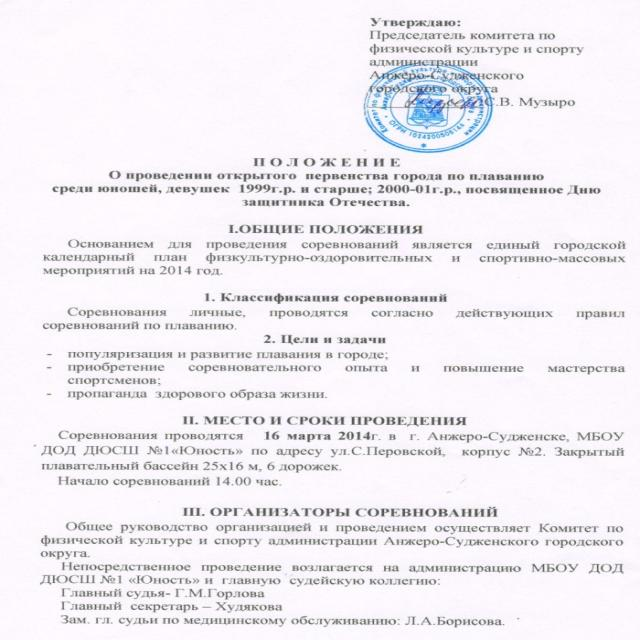stamps: (322, 57, 538, 163)
